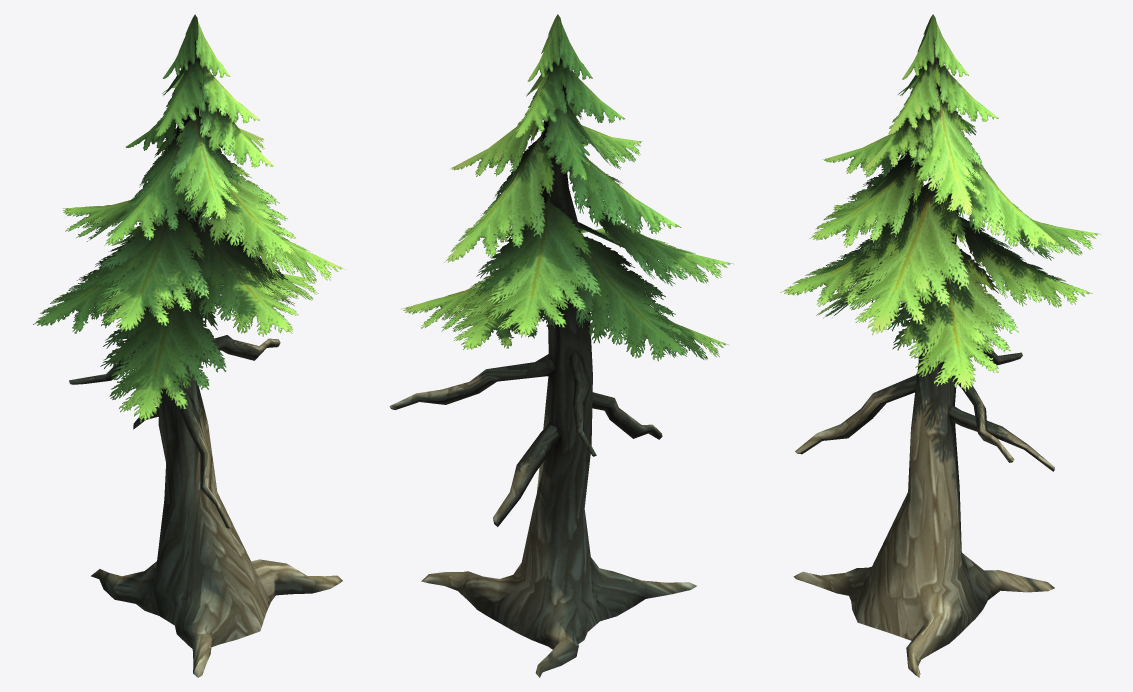
The model's file is Mod_WM_Tree_Pine_03.fbx.
3 views of the same model, side by side, from view 1: azimuth 30°, elevation 25°; view 2: azimuth 150°, elevation 25°; view 3: azimuth 270°, elevation 25° (orthographic). The views are drawn at different scales.
Parts seen in each view (by area): view 1: polySurface479; view 2: polySurface479; view 3: polySurface479.
Part boxes in pixels (box(x1,y1,x2,y2)): polySurface479: box(33, 14, 345, 677); polySurface479: box(389, 14, 733, 677); polySurface479: box(780, 14, 1100, 677).
Size of the model in its own units: 120 by 231 by 122.
Materials: 1 (1 with a texture image).
